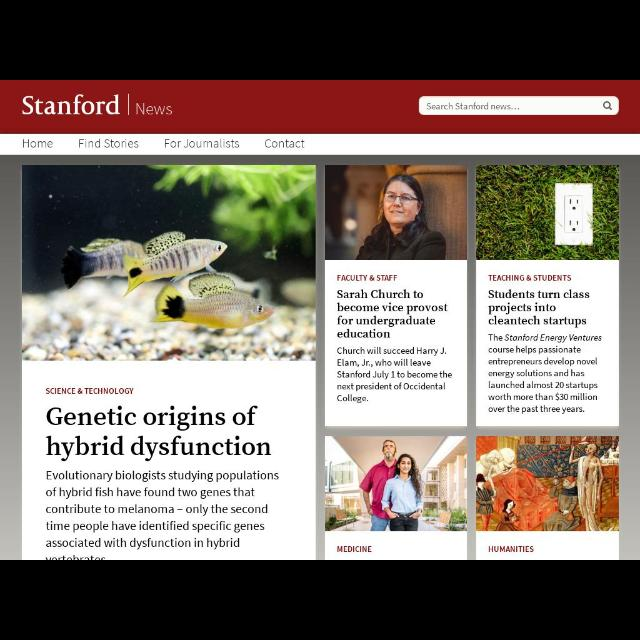icon: (604, 102, 612, 110)
image: (22, 165, 316, 361), (476, 164, 620, 260), (325, 436, 467, 532), (476, 436, 618, 532), (325, 164, 467, 260), (23, 95, 121, 115)
input: (420, 96, 618, 115)
multitab: (1, 134, 640, 154)
text: (46, 470, 280, 550), (488, 334, 602, 414), (338, 346, 452, 404), (46, 435, 272, 461), (46, 406, 258, 432), (338, 288, 448, 338), (488, 290, 590, 328), (426, 102, 520, 110), (165, 138, 239, 148), (488, 274, 572, 282), (79, 138, 139, 148), (46, 388, 134, 394), (136, 102, 172, 116), (337, 274, 397, 282), (265, 138, 305, 148), (23, 138, 53, 148), (488, 546, 534, 552), (338, 546, 372, 552)
toolbar: (1, 80, 639, 134)
